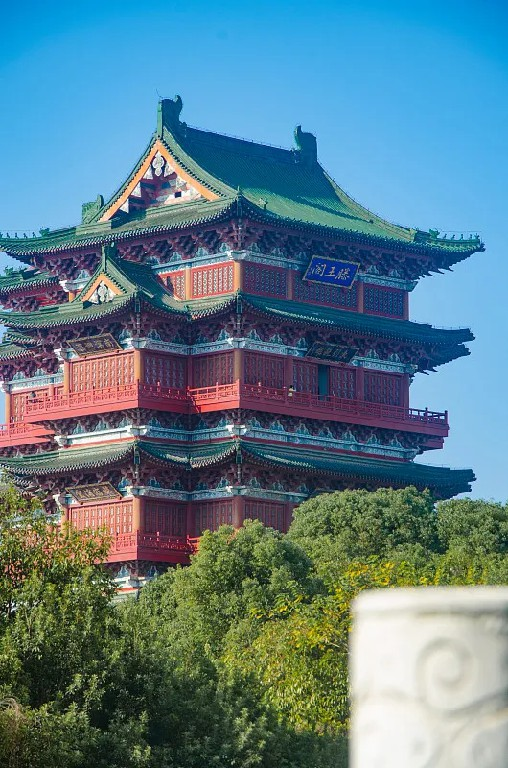Teng: (1, 96, 485, 544)
